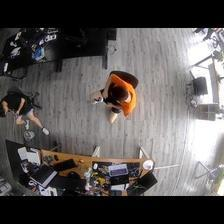normal: (1, 84, 53, 140), (88, 72, 138, 125)
